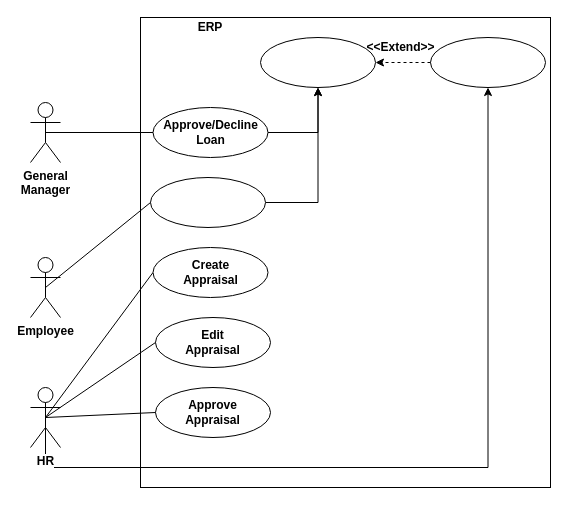
The diagram is 568 pixels wide and 505 high, and some of its shapes have lost their labels. Here are the shapes that lost their labels. From the top down, the centre of each, then its label:
At (318,62): "Manage Appraisal {abstract}".
At (488,62): "Conduct Appraisal".
At (208,202): "Review Appraisal".
